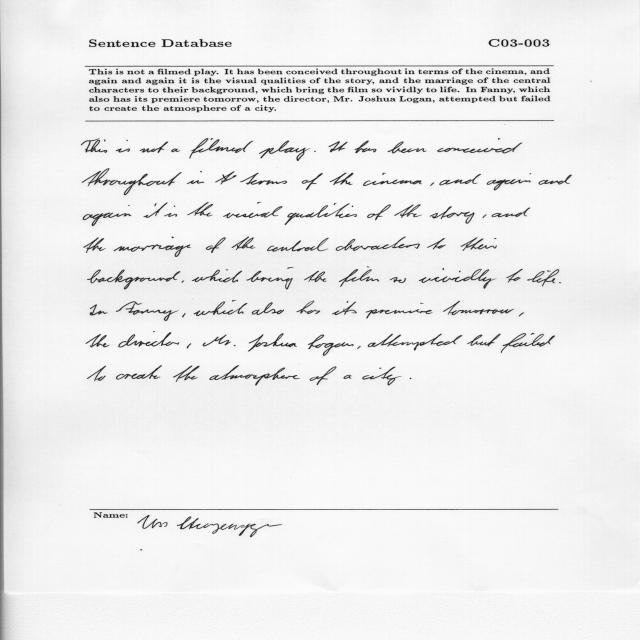word: (82, 169, 182, 196), (88, 270, 180, 290), (209, 366, 300, 386), (419, 268, 496, 289), (284, 203, 357, 225), (368, 334, 462, 351), (114, 237, 191, 257), (189, 139, 253, 159), (438, 139, 523, 154), (116, 301, 179, 321), (336, 237, 420, 251), (246, 267, 294, 290), (501, 333, 555, 353), (259, 141, 310, 161), (308, 334, 354, 356), (215, 171, 287, 185), (83, 205, 131, 226), (366, 303, 433, 318), (443, 301, 514, 315), (119, 331, 180, 347), (223, 202, 282, 218), (248, 333, 297, 352), (267, 238, 329, 252), (194, 300, 247, 316), (430, 206, 475, 224), (339, 267, 379, 287), (363, 173, 422, 186), (362, 367, 402, 386), (487, 174, 531, 191), (116, 365, 162, 380), (192, 270, 242, 283), (527, 269, 559, 286), (461, 237, 497, 251), (310, 366, 336, 385), (388, 142, 427, 154), (440, 174, 482, 185), (173, 366, 200, 382), (252, 302, 284, 315), (467, 334, 501, 346), (394, 204, 422, 218), (81, 138, 107, 153), (187, 202, 213, 217), (144, 202, 168, 218), (492, 208, 530, 218), (203, 335, 236, 346), (367, 205, 391, 220), (302, 173, 323, 190), (332, 301, 357, 315), (538, 175, 572, 185), (84, 238, 106, 253), (86, 334, 109, 348), (206, 237, 226, 253), (232, 237, 256, 250), (297, 301, 321, 314), (140, 142, 168, 153), (330, 173, 354, 185), (87, 366, 106, 381), (355, 141, 377, 153), (304, 271, 327, 282), (187, 171, 204, 184), (506, 269, 523, 282), (329, 142, 348, 153), (427, 238, 446, 249), (91, 305, 108, 316), (116, 140, 130, 152), (164, 206, 177, 217), (390, 277, 406, 283), (344, 375, 351, 379), (171, 149, 180, 152), (187, 343, 191, 349), (519, 313, 524, 317), (483, 215, 487, 219), (430, 183, 434, 186), (183, 313, 186, 317), (357, 346, 361, 349), (182, 280, 184, 283), (314, 151, 316, 152), (559, 282, 561, 283), (410, 378, 411, 379)
